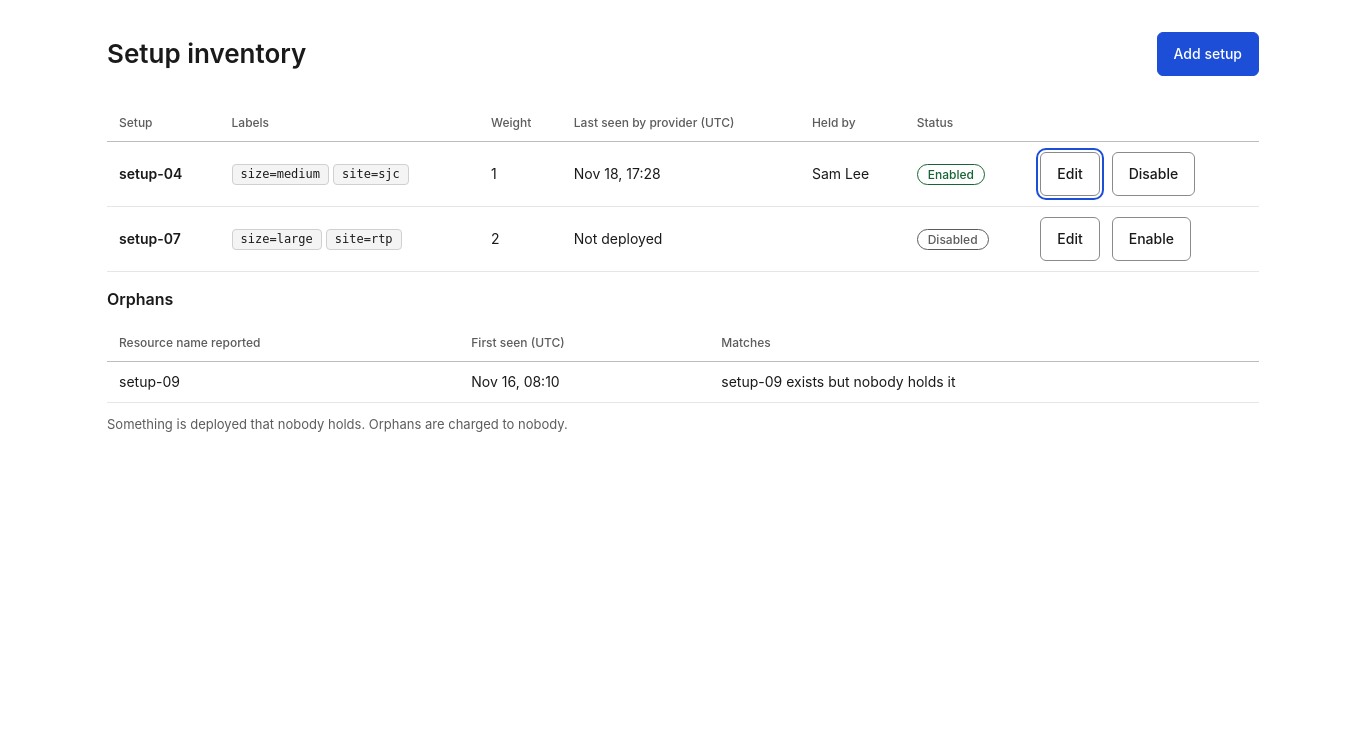
SET-2, SET-3 add and edit › moves focus into the Edit panel, and Escape closes it and returns focus to Edit
This screenshot has width=1366, height=738.
Click the button with aria-label "Edit setup-04" at coordinates (1070, 174), box [1040,152,1100,196]
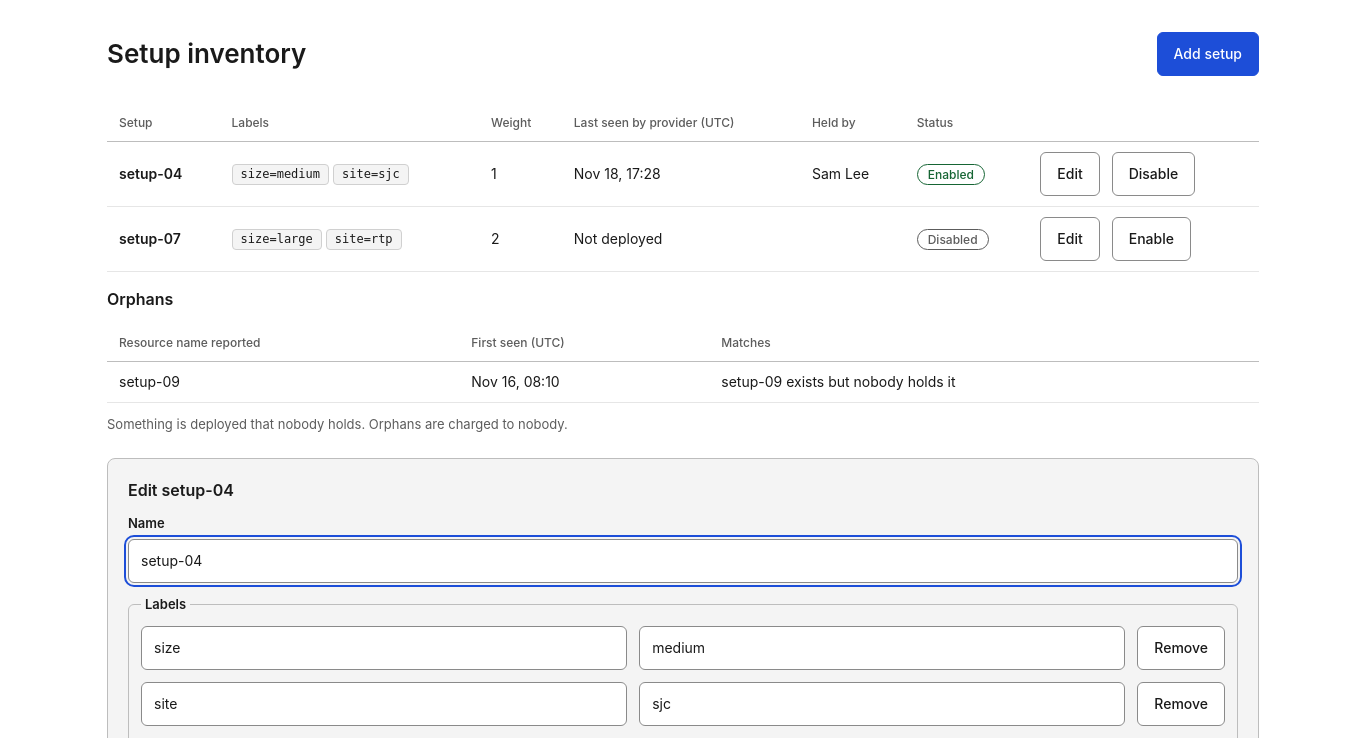
Press Escape
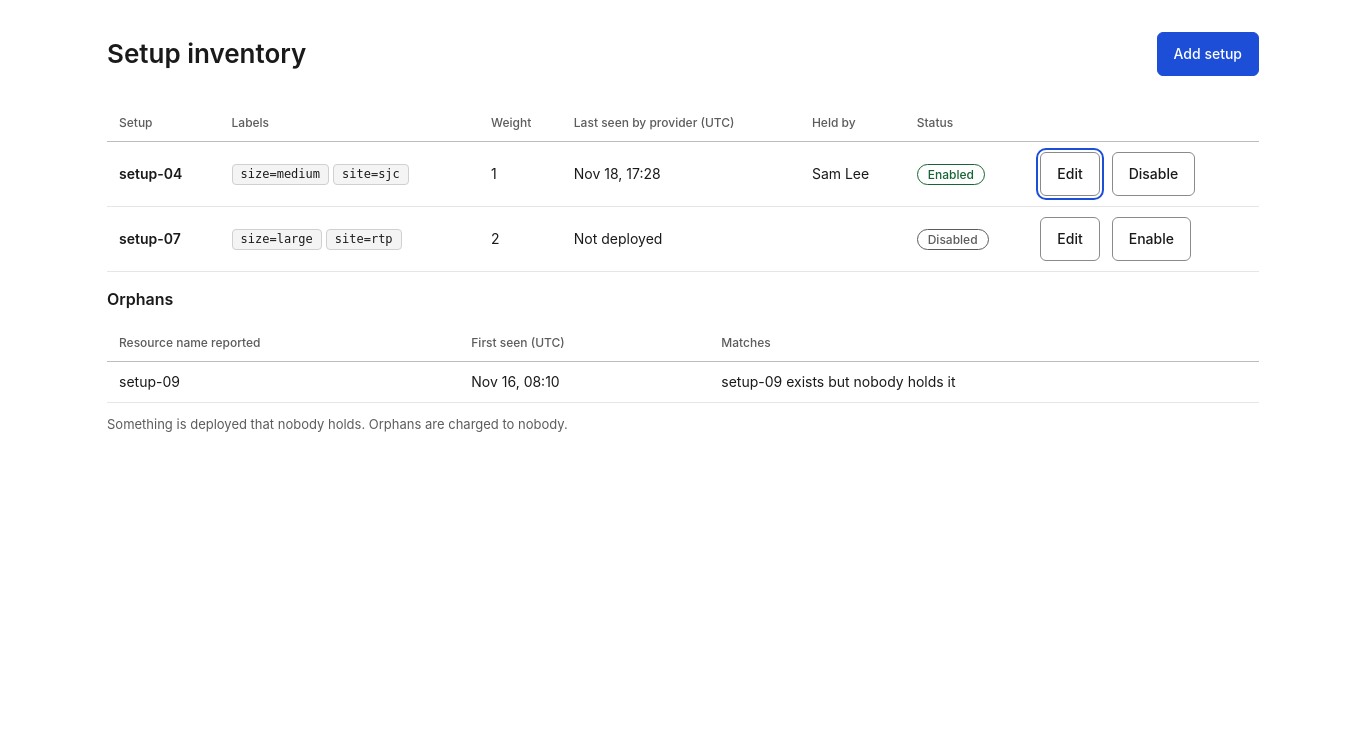
Expected: the heading "Edit setup" is gone
